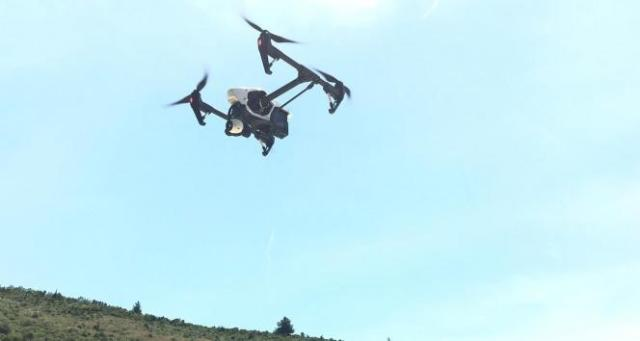drone: (158, 10, 362, 184)
